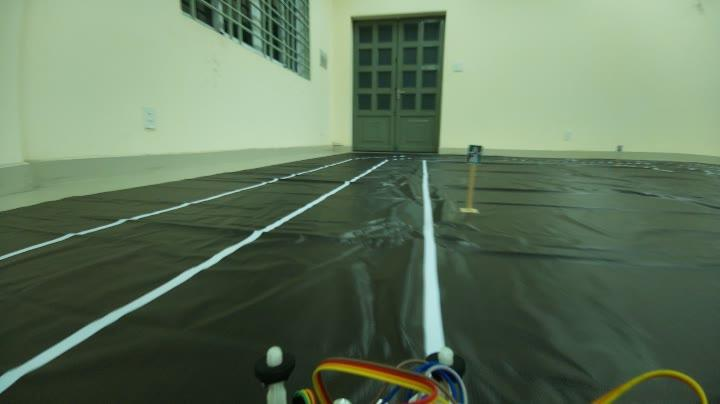highway_exit: (463, 138, 484, 172)
